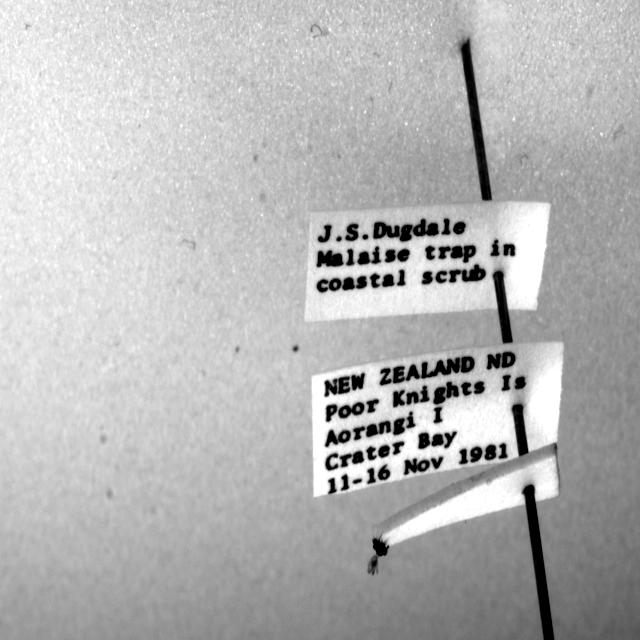typed_label: (312, 343, 564, 497), (305, 201, 550, 321)
